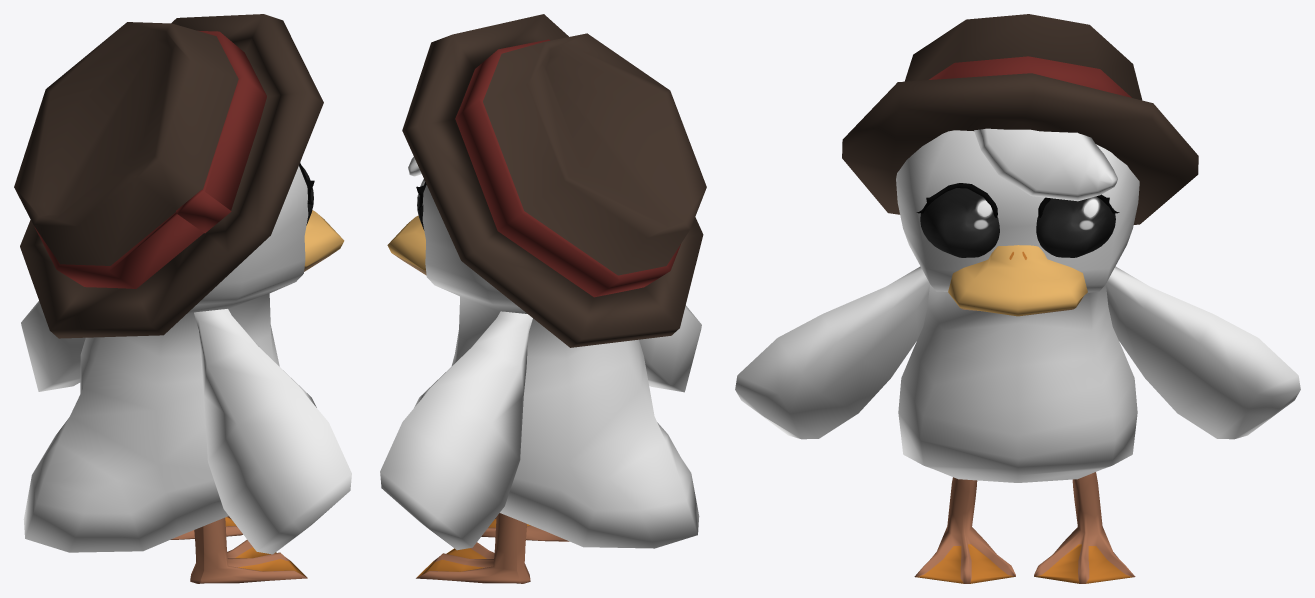
Rendered from duckSmooth (1).fbx.
3 views of the same model, side by side, from view 1: azimuth 30°, elevation 25°; view 2: azimuth 150°, elevation 25°; view 3: azimuth 270°, elevation 25° (orthographic). The views are drawn at different scales.
Parts seen in each view (by area): view 1: Cube.003; view 2: Cube.003; view 3: Cube.003.
Boxes of the visible parts, bbox=[...] form: Cube.003: bbox=[14, 14, 351, 583]; Cube.003: bbox=[380, 14, 706, 583]; Cube.003: bbox=[735, 14, 1300, 583].
Size of the model in its own units: 136 by 234 by 225.
7 materials, 5 textured.
